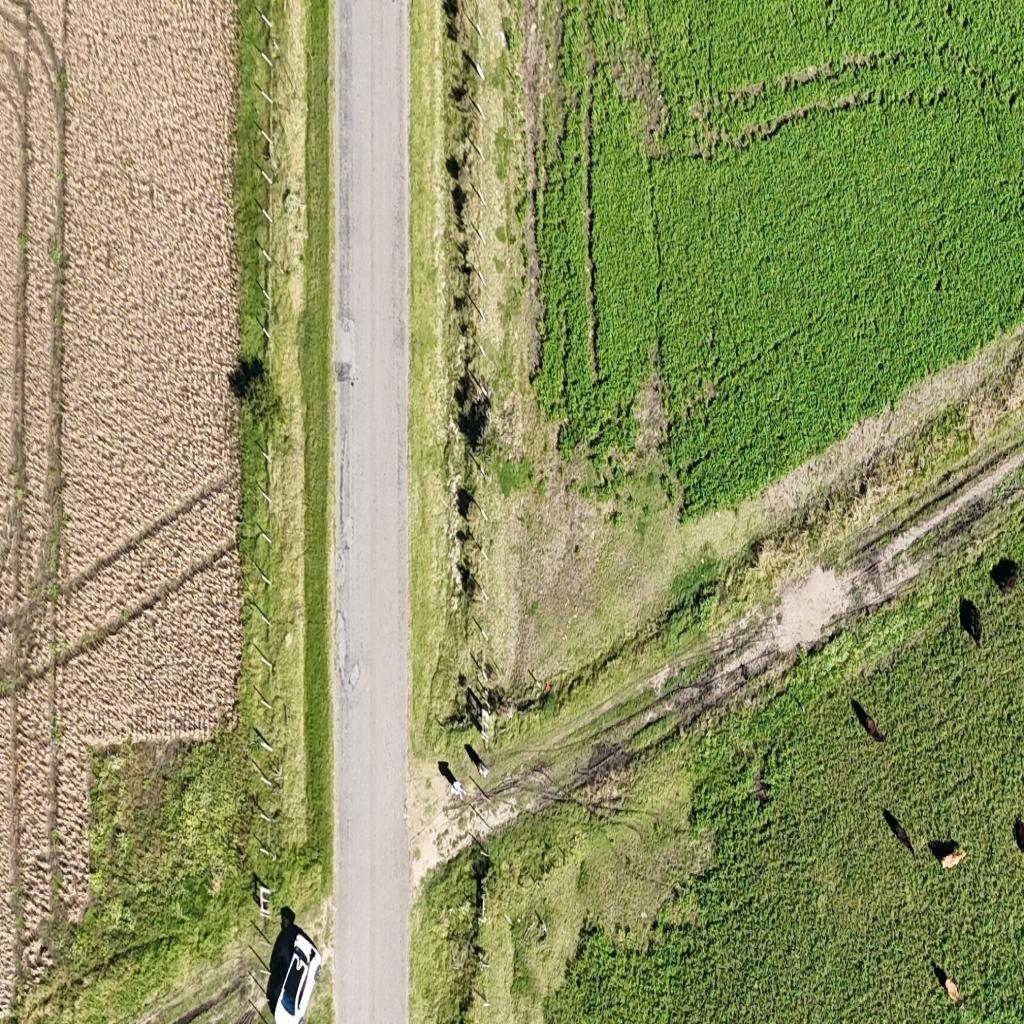cow: (882, 808, 916, 856), (931, 958, 964, 1006), (851, 697, 884, 744), (958, 598, 984, 652), (989, 558, 1021, 598), (929, 838, 966, 869), (1009, 811, 1024, 855)
